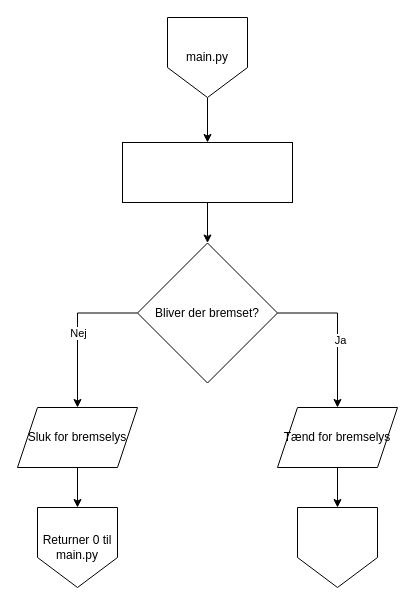
The diagram is 415 pixels wide and 605 high, and some of its shapes have lost their labels. The shapes that lost their labels are listed below. From the top down, each one's centre as x and y in pixels, then its label:
(207,172): Mål værdier fra mpu
(337,547): Returner 1000 til main.py
